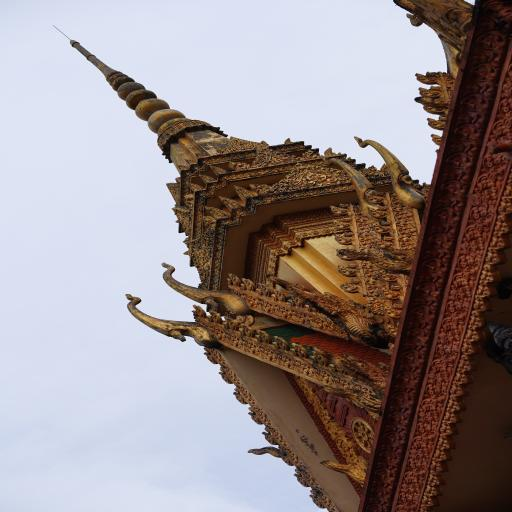la: (375, 301, 404, 319), (368, 235, 394, 251), (366, 188, 390, 205), (270, 335, 294, 352), (340, 280, 366, 295), (218, 315, 244, 330), (188, 305, 212, 321), (382, 288, 409, 302), (368, 207, 395, 221), (332, 233, 358, 246), (334, 263, 360, 276), (378, 272, 408, 283), (368, 222, 395, 234), (335, 248, 357, 262), (238, 324, 260, 338), (310, 350, 329, 366), (253, 330, 275, 343), (289, 343, 309, 357), (331, 220, 354, 232), (330, 206, 353, 216), (206, 310, 224, 322)
lua: (350, 132, 443, 212), (118, 293, 221, 354), (154, 264, 252, 316), (326, 157, 380, 208), (414, 70, 444, 86), (417, 87, 448, 101), (422, 116, 447, 133), (421, 103, 449, 118), (304, 493, 325, 509), (214, 369, 232, 386), (426, 132, 444, 148), (200, 351, 219, 366), (260, 432, 280, 446), (231, 390, 248, 406), (276, 453, 296, 466), (292, 473, 310, 487), (246, 411, 262, 424)
ran: (265, 274, 399, 351), (308, 344, 400, 386), (318, 382, 395, 417), (333, 246, 417, 274), (321, 460, 371, 489), (244, 447, 286, 459), (204, 206, 229, 220), (232, 185, 253, 201), (219, 196, 241, 210), (208, 165, 228, 177), (197, 174, 217, 185), (186, 182, 202, 194), (321, 146, 334, 158), (175, 162, 190, 172), (280, 137, 294, 146), (184, 159, 198, 166)
